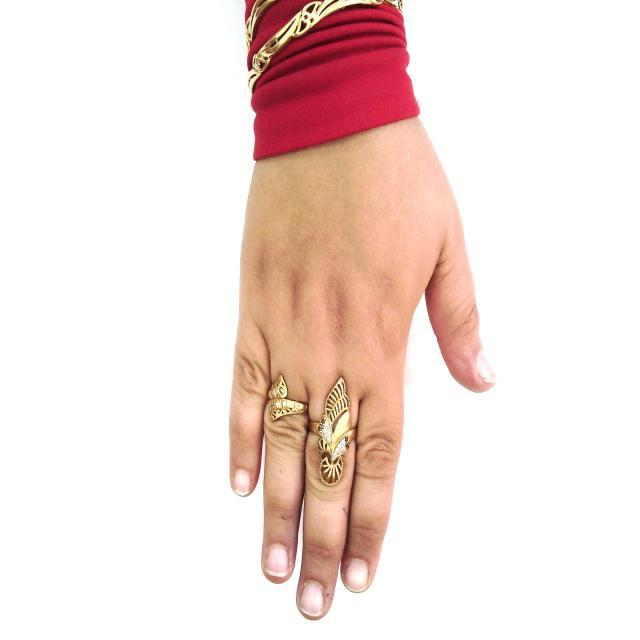Fingernail: (300, 582, 325, 616), (266, 545, 290, 577), (345, 560, 368, 592), (477, 351, 496, 381), (234, 470, 251, 495)
